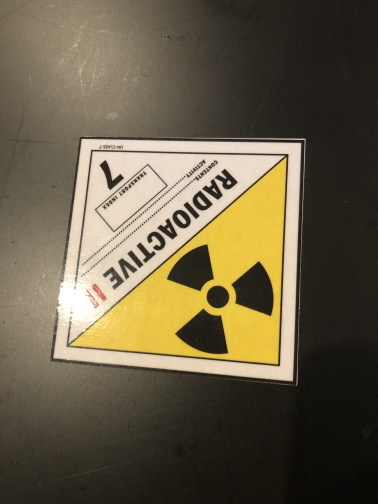Radioactive: (54, 138, 302, 383)
